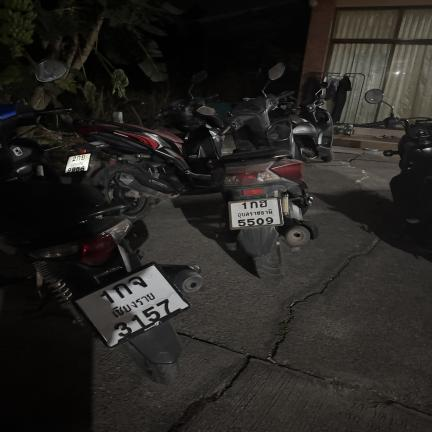0: (256, 217, 265, 225)
1: (96, 288, 117, 306), (129, 313, 147, 330), (240, 202, 248, 209)
2: (71, 156, 77, 162)
3: (110, 319, 134, 338)
5: (140, 305, 163, 324), (237, 218, 246, 227), (246, 218, 256, 226), (75, 166, 81, 172)
6: (80, 166, 85, 171)
7: (154, 297, 177, 316)
9: (264, 216, 275, 225), (66, 167, 72, 173), (71, 167, 76, 173)
A01: (108, 281, 135, 300), (249, 201, 259, 209), (76, 155, 81, 161)
A08: (125, 274, 151, 293)
A34: (81, 154, 86, 160)
A44: (259, 200, 268, 208)
CRI: (108, 291, 159, 321)
KKN: (70, 161, 84, 167)
UBN: (236, 208, 274, 218)
